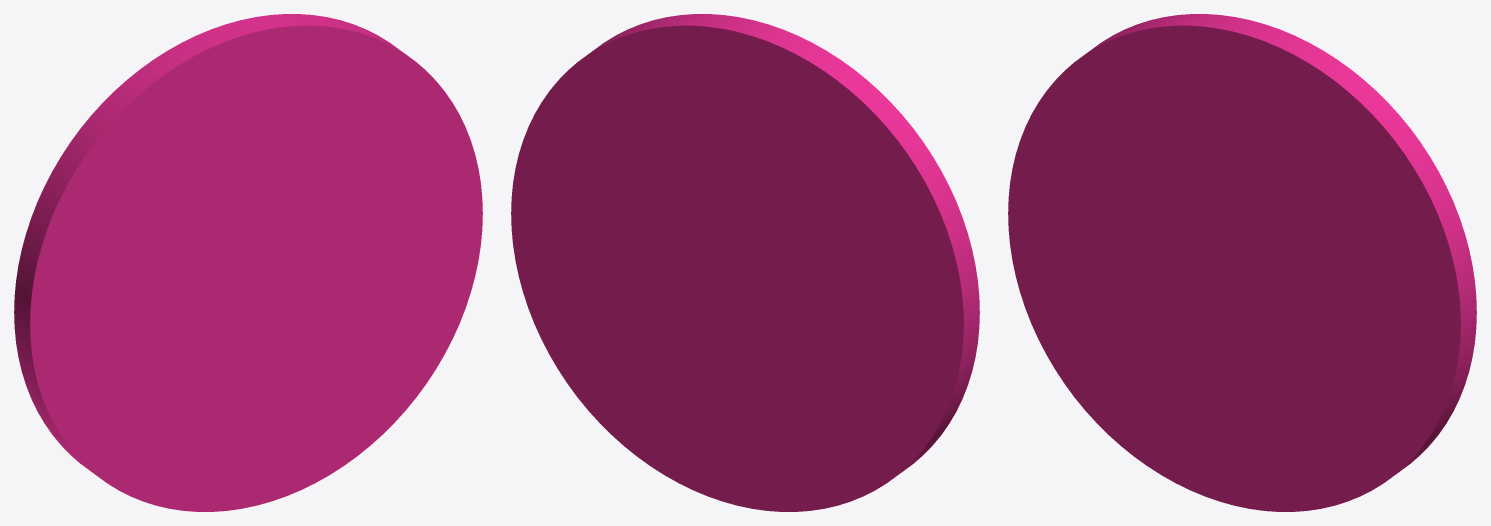
File: nano_center_pink.obj
3 views of the same model, side by side, from view 1: azimuth 30°, elevation 25°; view 2: azimuth 150°, elevation 25°; view 3: azimuth 330°, elevation 25° (orthographic).
Bounding box in the file's own units: 0.0131 × 0.0131 × 0.0008.
Materials: 1 (1 with a texture image).
